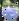with_mask: (1, 1, 19, 21)
